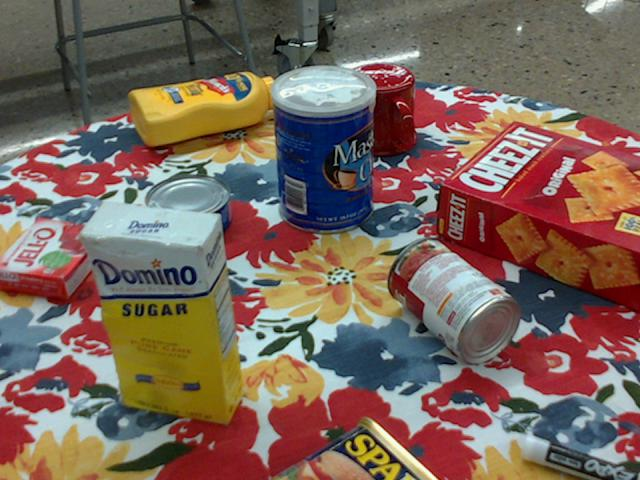cracker_box: (436, 121, 639, 312)
gelatin_box: (0, 220, 109, 302)
large_marker: (523, 433, 639, 479)
master_chef_can: (271, 65, 376, 234)
mug: (340, 63, 417, 156)
mustard_bottle: (126, 72, 289, 145)
potted_meat_can: (271, 416, 442, 479)
sugar_box: (77, 199, 244, 425)
tomato_soup_can: (388, 237, 523, 364)
tuna_fish_can: (143, 175, 230, 245)
